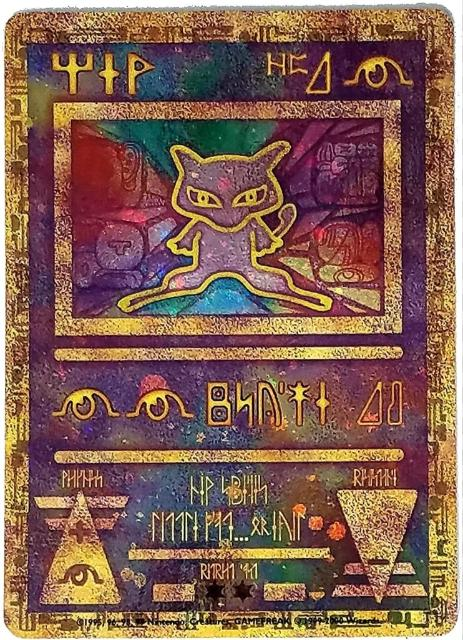Card: (0, 2, 461, 639)
Name: (44, 50, 161, 98)
